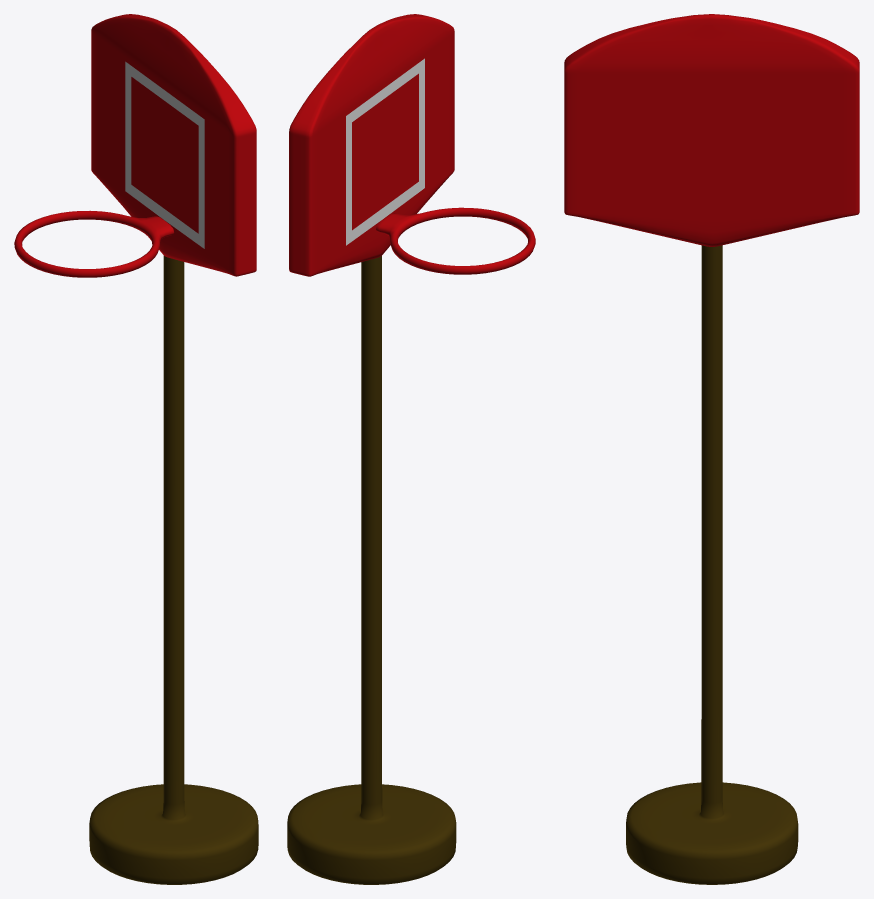
Rendered from PanierBasket.fbx.
3 renders of one model, left to right at view 1: azimuth 30°, elevation 25°; view 2: azimuth 150°, elevation 25°; view 3: azimuth 270°, elevation 25°, orthographic.
Parts seen in each view (by area): view 1: PanierBasket; view 2: PanierBasket; view 3: PanierBasket.
Part boxes in pixels (x1,y1,x2,y2): PanierBasket: [14, 14, 258, 884]; PanierBasket: [287, 14, 535, 884]; PanierBasket: [564, 14, 859, 884].
Size of the model in its own units: 45.98 by 160 by 51.26.
